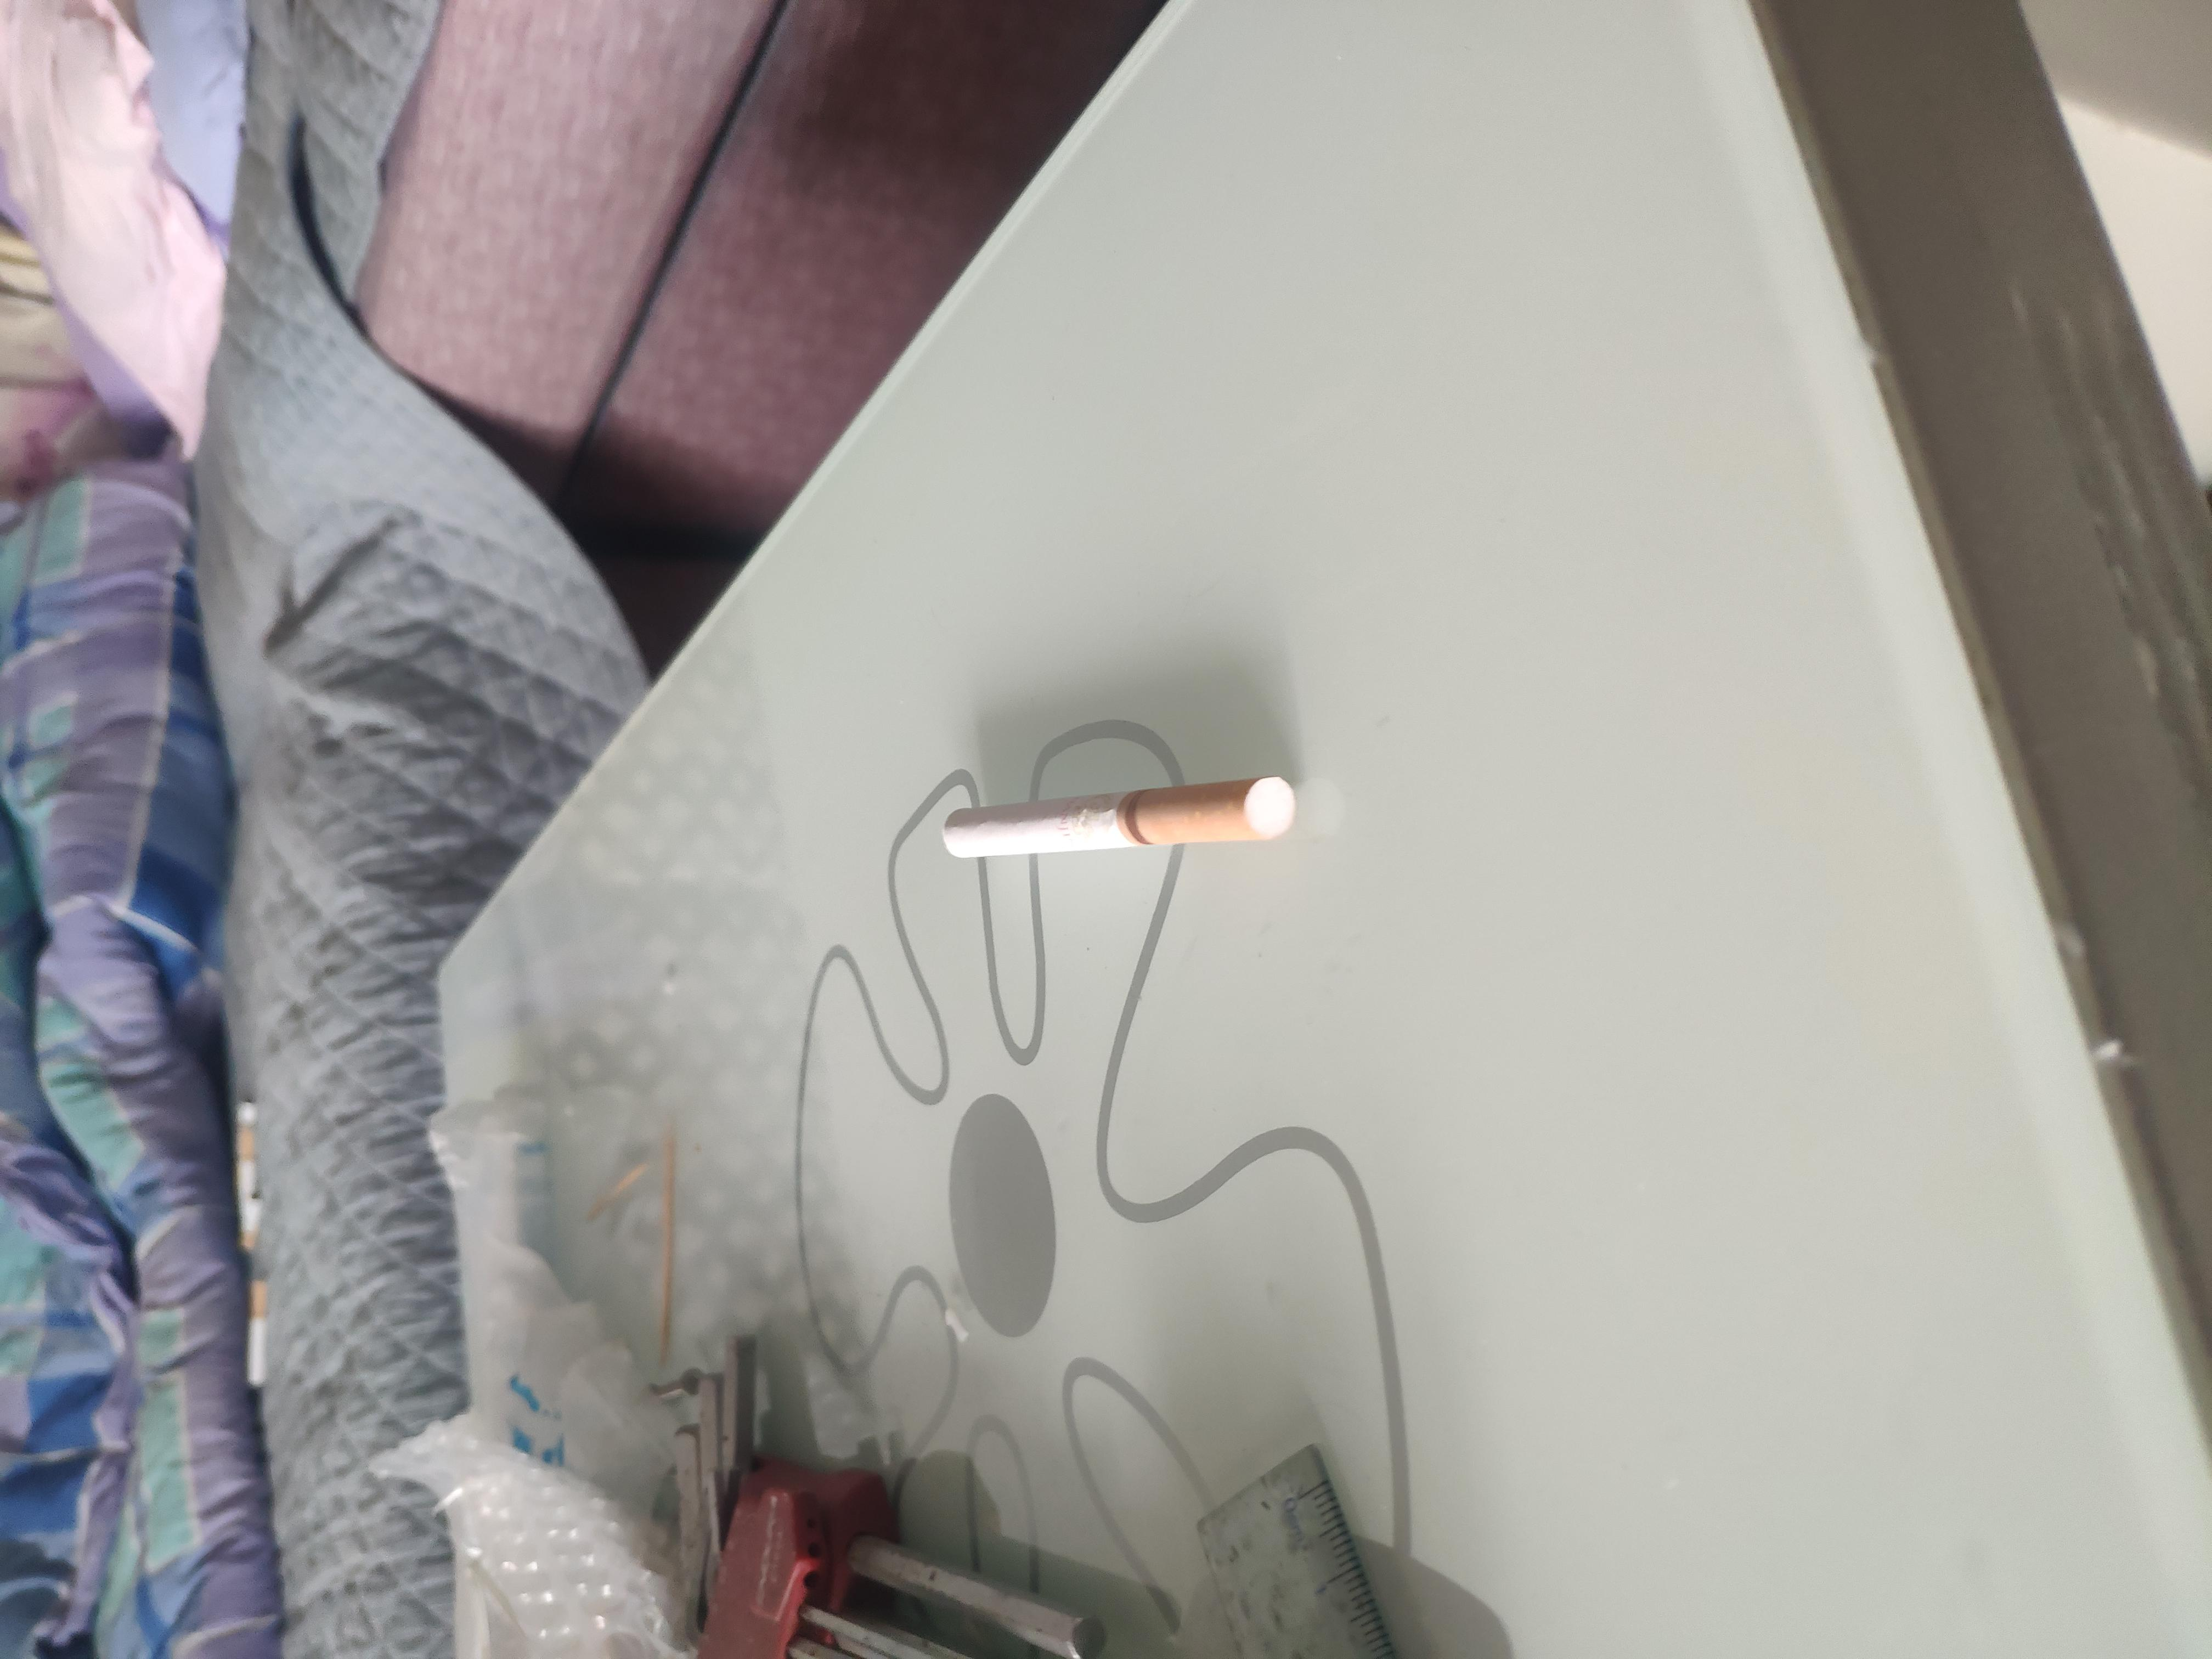smoke: (1064, 708, 1183, 971)
